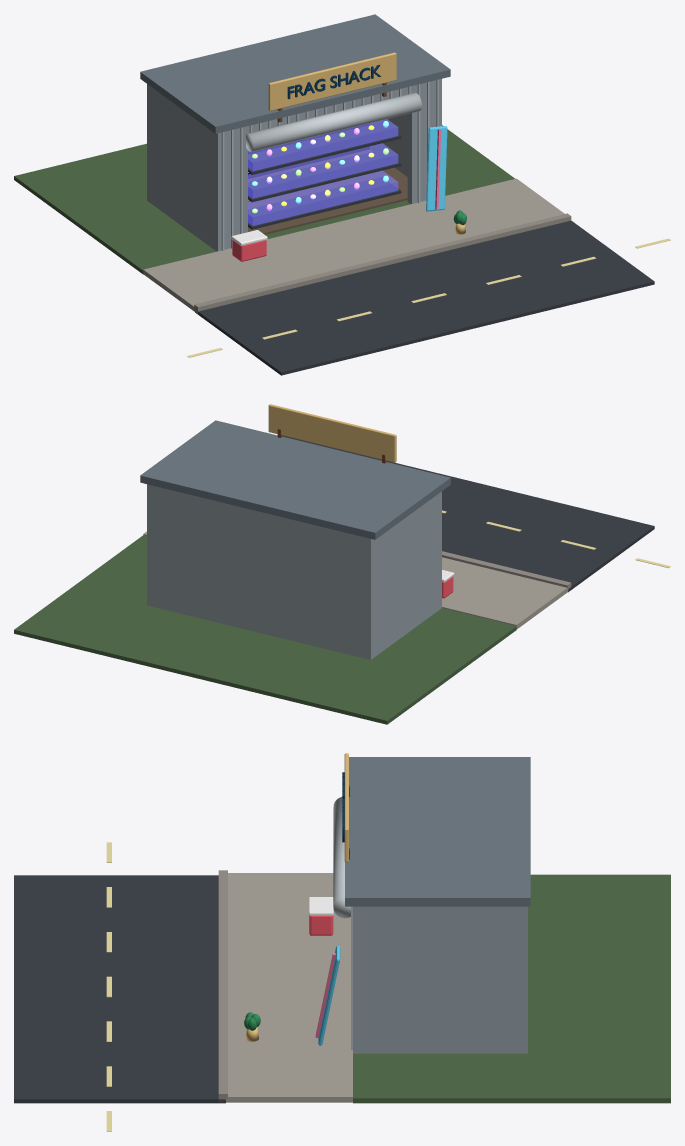
File: store_frag_shack.glb
3 views of the same model, one above another, from view 1: azimuth 30°, elevation 25°; view 2: azimuth 150°, elevation 25°; view 3: azimuth 270°, elevation 25° (orthographic). The views are drawn at different scales.
Visible parts, largest first — view 1: Cube.001, Cube, Cube.041, Cube.010, Cube.013, Cube.011, Cylinder, Cube.046, Cube.043, Cube.009, Cube.051, Cube.016 (+9 smaller); view 2: Cube.010, Cube.012, Cube.041, Cube.001, Cube.013, Cube, Cube.051, Cube.009; view 3: Cube.001, Cube.010, Cube.041, Cube, Cube.014, Cube.009, Cube.012, Cube.011, Cylinder, Cube.054.
Part boxes in pixels (x1,y1,x2,y2): Cube.001: (195, 220, 654, 375); Cube: (143, 178, 564, 311); Cube.041: (140, 14, 450, 133); Cube.010: (14, 125, 514, 274); Cube.013: (149, 85, 224, 251); Cube.011: (218, 79, 441, 251); Cylinder: (246, 92, 421, 152); Cube.046: (248, 143, 398, 198); Cube.043: (248, 170, 398, 225); Cube.009: (194, 213, 571, 313); Cube.051: (268, 52, 396, 110); Cube.016: (248, 149, 407, 234); Cube.010: (14, 535, 516, 724); Cube.012: (147, 484, 374, 659); Cube.041: (140, 420, 450, 539); Cube.001: (282, 435, 654, 592); Cube.013: (373, 492, 441, 657); Cube: (143, 531, 568, 629); Cube.051: (268, 404, 396, 462); Cube.009: (442, 551, 571, 588); Cube.001: (14, 875, 225, 1103); Cube.010: (353, 874, 670, 1103); Cube.041: (345, 757, 530, 906); Cube: (226, 873, 352, 1102); Cube.014: (353, 906, 522, 1053); Cube.009: (218, 870, 227, 1102); Cube.012: (517, 906, 527, 1053); Cube.011: (353, 906, 363, 1053); Cylinder: (333, 797, 350, 918); Cube.054: (318, 945, 340, 1045).
Size of the model in its own units: 12.9 by 4.17 by 12.4.
